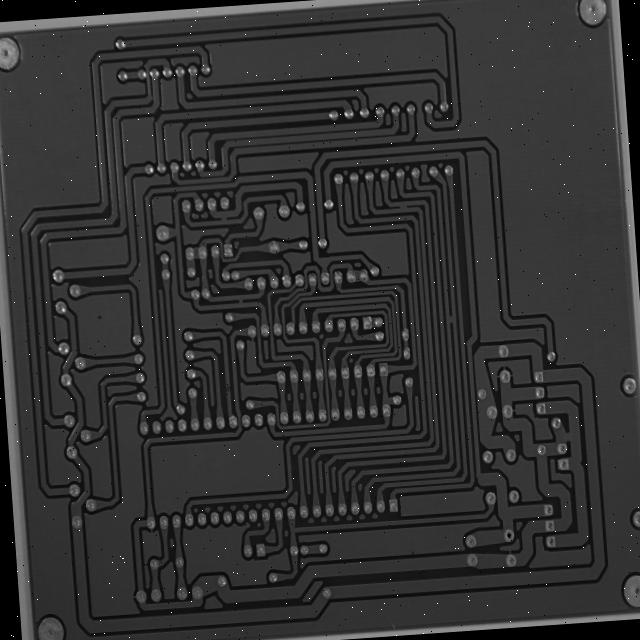short: (611, 485, 633, 510), (237, 236, 255, 256), (433, 225, 450, 243), (488, 353, 503, 373), (258, 333, 272, 351)
